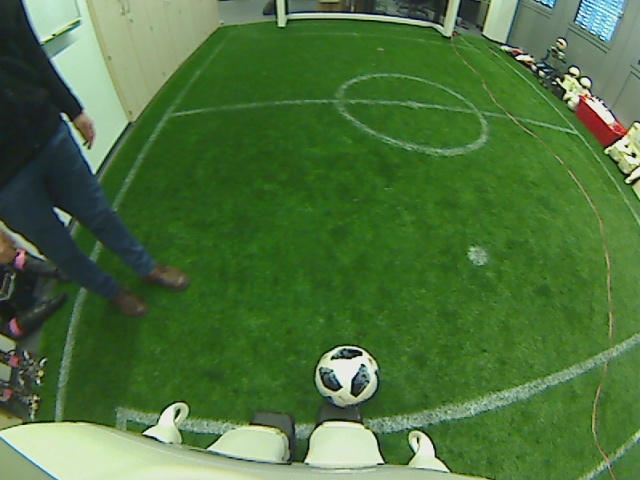ball: (313, 343, 379, 408)
